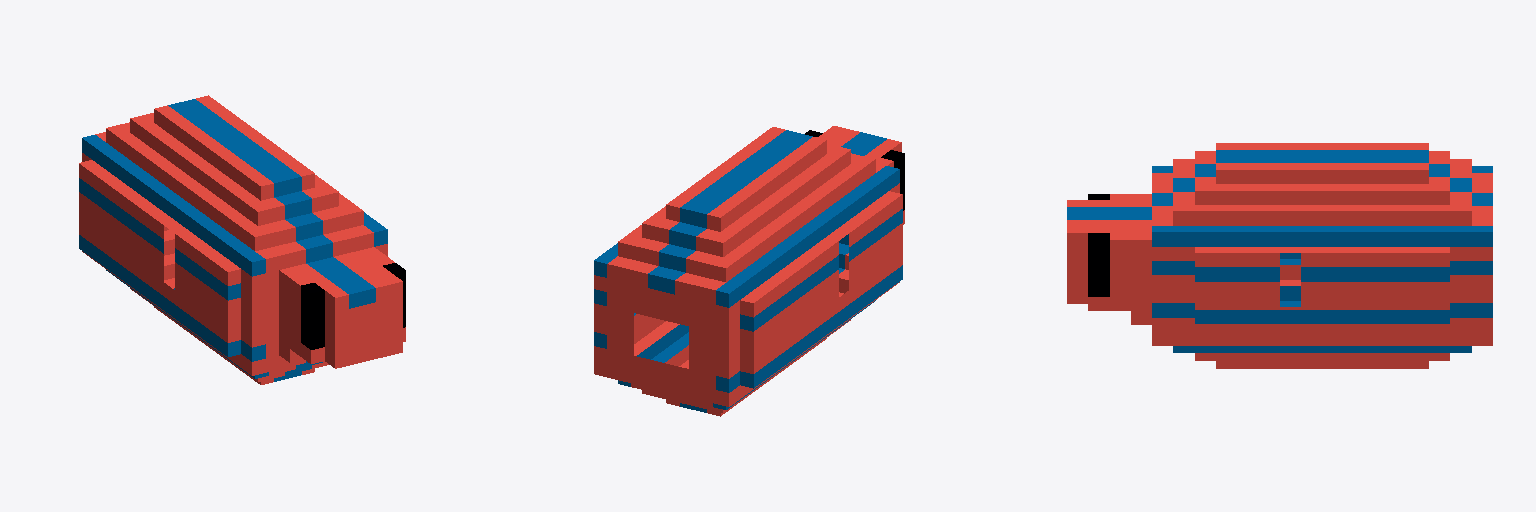
3 renders of one model, left to right at view 1: azimuth 30°, elevation 25°; view 2: azimuth 150°, elevation 25°; view 3: azimuth 270°, elevation 25°, orthographic.
Visible parts, largest first — view 1: precado; view 2: precado; view 3: precado.
Boxes of the visible parts, box(x1,y1,x2,y2) form: precado: box(79, 95, 405, 384); precado: box(594, 126, 904, 416); precado: box(1067, 143, 1492, 368).
Size of the model in its own units: 7.85 by 9.16 by 17.8.
Materials: 1 (1 with a texture image).